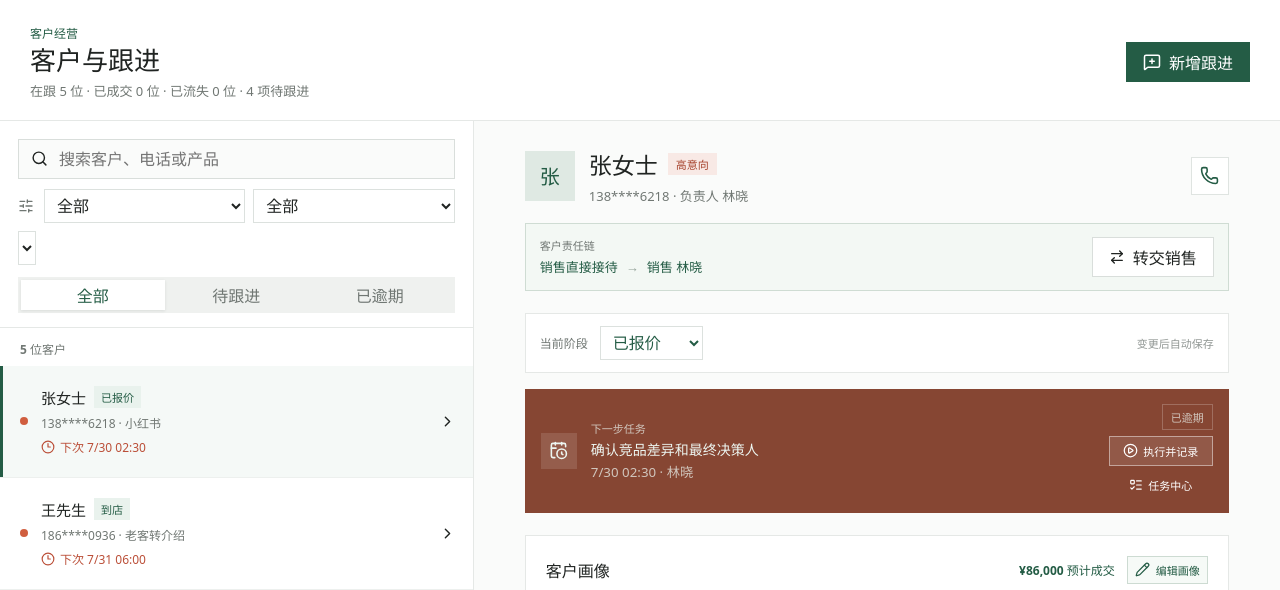
Test: CustomersPage design collaboration › turns a pending next task into an executable action
Click the button "执行并记录". click: point(1161, 450)
box: [1109,436,1213,466]
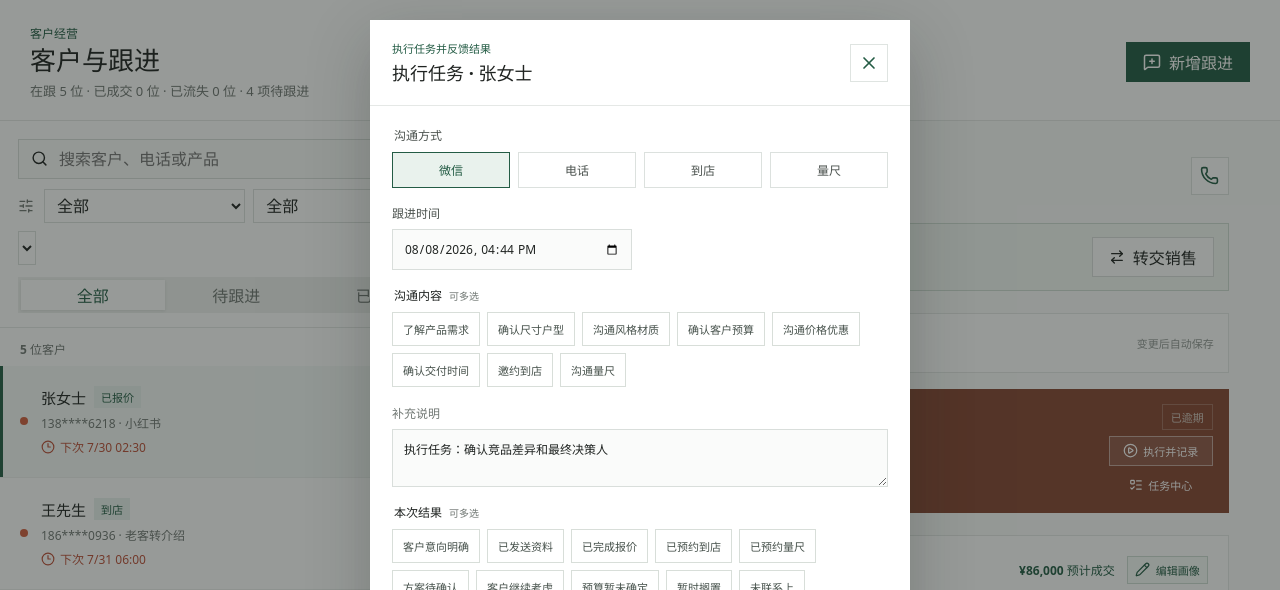
Now the heading "执行任务 · 张女士" is shown, box [392,59,532,85]
